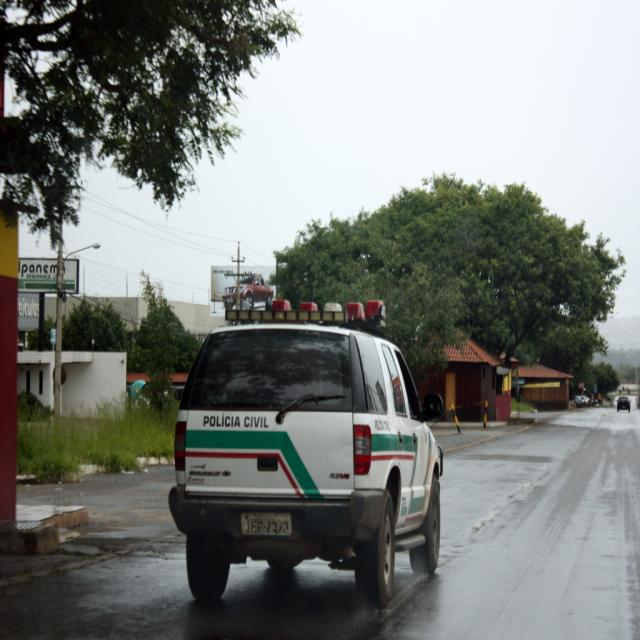car: (193, 295, 443, 622), (614, 392, 632, 411), (572, 388, 587, 409)
